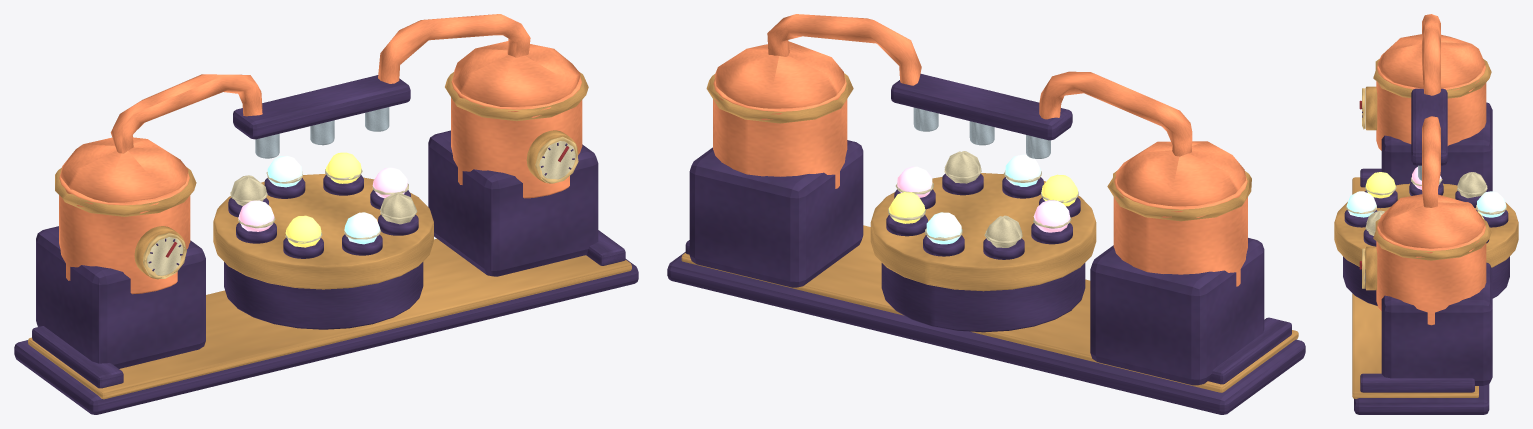
The model's file is Gobstopper-Coating-Carousel-lite.glb.
3 renders of one model, left to right at view 1: azimuth 30°, elevation 25°; view 2: azimuth 150°, elevation 25°; view 3: azimuth 270°, elevation 25°, orthographic. The views are drawn at different scales.
Parts seen in each view (by area): view 1: Gobstopper-Coating-Carousel | housing, Gobstopper-Coating-Carousel | moving assembly; view 2: Gobstopper-Coating-Carousel | housing, Gobstopper-Coating-Carousel | moving assembly; view 3: Gobstopper-Coating-Carousel | housing, Gobstopper-Coating-Carousel | moving assembly.
Boxes of the visible parts, left/top/right/bottom form: Gobstopper-Coating-Carousel | housing: left=14, top=14, right=638, bottom=414; Gobstopper-Coating-Carousel | moving assembly: left=213, top=152, right=433, bottom=289; Gobstopper-Coating-Carousel | housing: left=667, top=14, right=1305, bottom=414; Gobstopper-Coating-Carousel | moving assembly: left=870, top=151, right=1096, bottom=291; Gobstopper-Coating-Carousel | housing: left=1343, top=14, right=1509, bottom=414; Gobstopper-Coating-Carousel | moving assembly: left=1334, top=167, right=1518, bottom=268.
Size of the model in its own units: 5.4 by 2.56 by 1.88.
10 materials, 7 textured.
